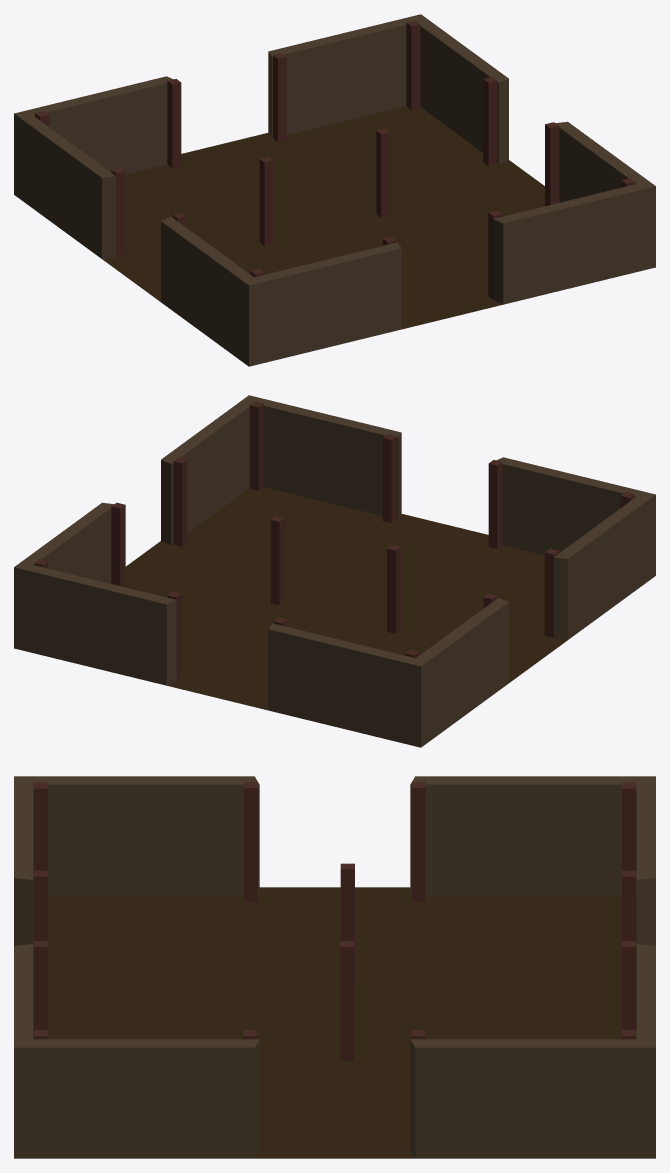
Rendered from RoomBaseLayout2.fbx.
3 renders of one model, top to bottom at view 1: azimuth 30°, elevation 25°; view 2: azimuth 150°, elevation 25°; view 3: azimuth 270°, elevation 25°, orthographic. The views are drawn at different scales.
Visible parts, largest first — view 1: Room1.006, Support.087, Support.083, Support.085, Support.079, Support.086, Support.078, Support.089, Support.084, Support.076; view 2: Room1.006, Support.082, Support.076, Support.077, Support.087, Support.089, Support.085, Support.086, Support.088, Support.078; view 3: Room1.006, Support.084, Support.087, Support.088, Support.078, Support.081, Support.076, Support.080, Support.086, Support.079, Support.077.
Part boxes in pixels (bbox=[...]): Room1.006: bbox=[14, 14, 655, 366]; Support.087: bbox=[376, 128, 390, 217]; Support.083: bbox=[406, 20, 420, 109]; Support.085: bbox=[483, 77, 497, 166]; Support.079: bbox=[167, 79, 181, 167]; Support.086: bbox=[259, 157, 273, 245]; Support.078: bbox=[273, 53, 286, 142]; Support.089: bbox=[545, 122, 559, 206]; Support.084: bbox=[111, 167, 125, 256]; Support.076: bbox=[488, 210, 502, 299]; Room1.006: bbox=[14, 395, 655, 747]; Support.082: bbox=[249, 401, 263, 490]; Support.076: bbox=[382, 434, 396, 523]; Support.077: bbox=[488, 460, 502, 549]; Support.087: bbox=[270, 516, 284, 605]; Support.089: bbox=[173, 457, 187, 546]; Support.085: bbox=[111, 502, 125, 587]; Support.086: bbox=[387, 544, 400, 633]; Support.088: bbox=[544, 548, 558, 637]; Support.078: bbox=[167, 591, 181, 680]; Room1.006: bbox=[14, 776, 655, 1158]; Support.084: bbox=[411, 782, 425, 901]; Support.087: bbox=[340, 941, 354, 1060]; Support.088: bbox=[244, 782, 257, 901]; Support.078: bbox=[622, 941, 636, 1029]; Support.081: bbox=[622, 782, 636, 870]; Support.076: bbox=[34, 941, 47, 1029]; Support.080: bbox=[34, 782, 47, 870]; Support.086: bbox=[340, 863, 354, 983]; Support.079: bbox=[622, 870, 636, 940]; Support.077: bbox=[34, 870, 47, 940].
Bounding box in the file's own units: 796 × 163 × 796.
